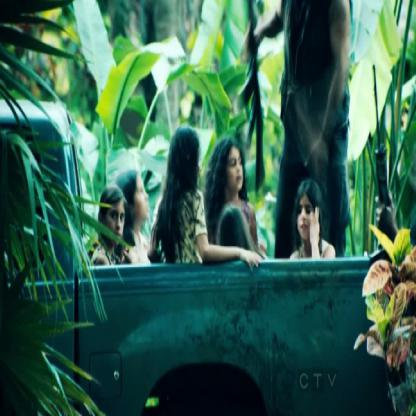Gun: (369, 57, 399, 272), (240, 0, 270, 195)
